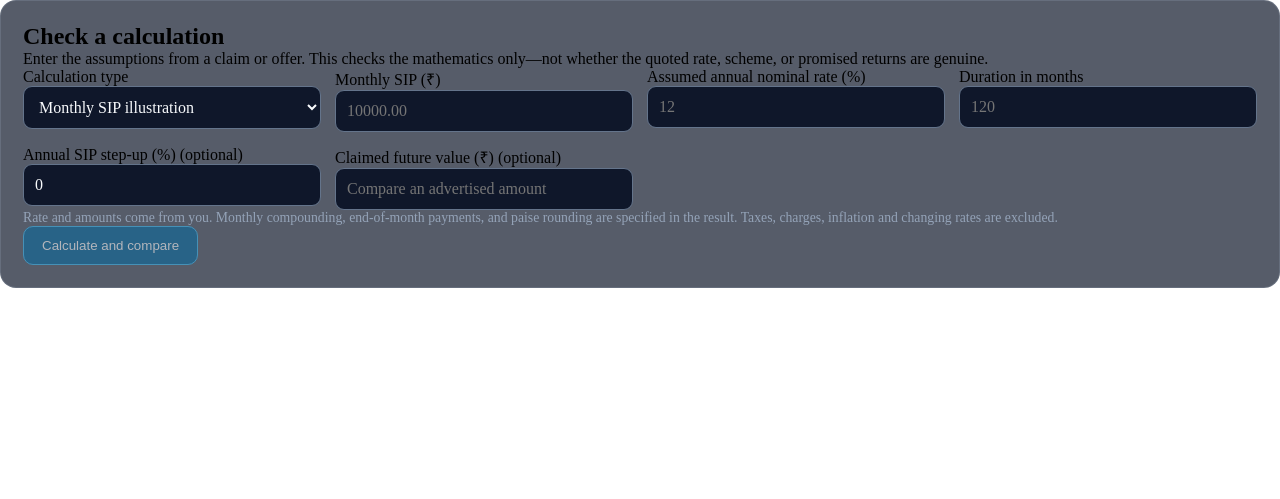
Test case: GenieProof math-only illustration › allows the optional SIP step-up to be cleared and sends zero
Step 1. Type "100" into the field labelled "Monthly SIP (₹)" → (484, 111), box [335,90,633,132]
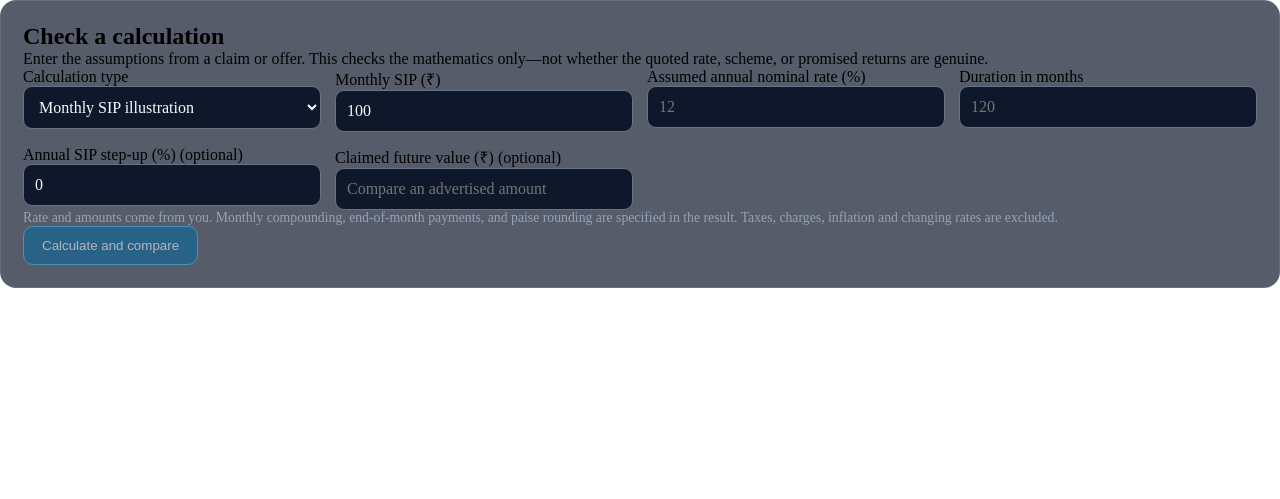
Step 2. Type "0" into the field labelled "Assumed annual nominal rate (%)" → (796, 107), box [647,86,945,128]
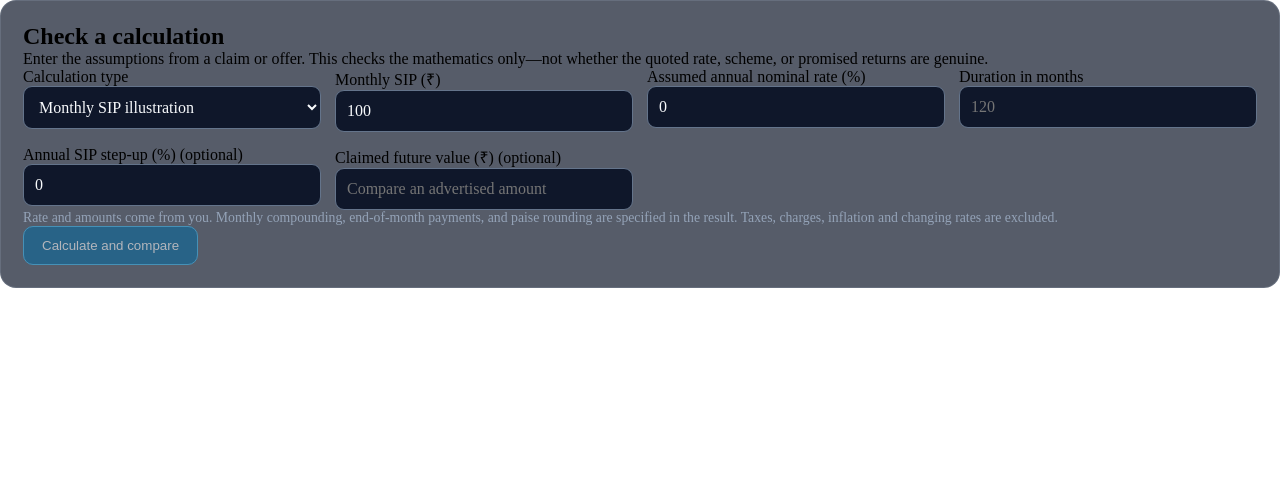
Step 3. Type "12" into the field labelled "Duration in months" → (1108, 107), box [959,86,1257,128]
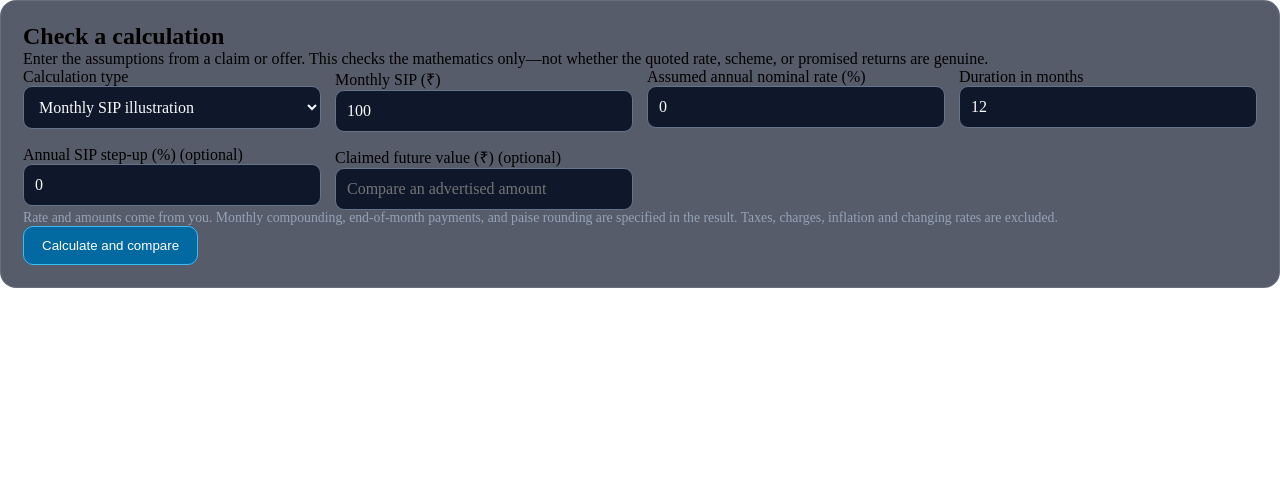
Step 4. Clear the field labelled "Annual SIP step-up (%) (optional)" → (172, 185), box [23,164,321,206]
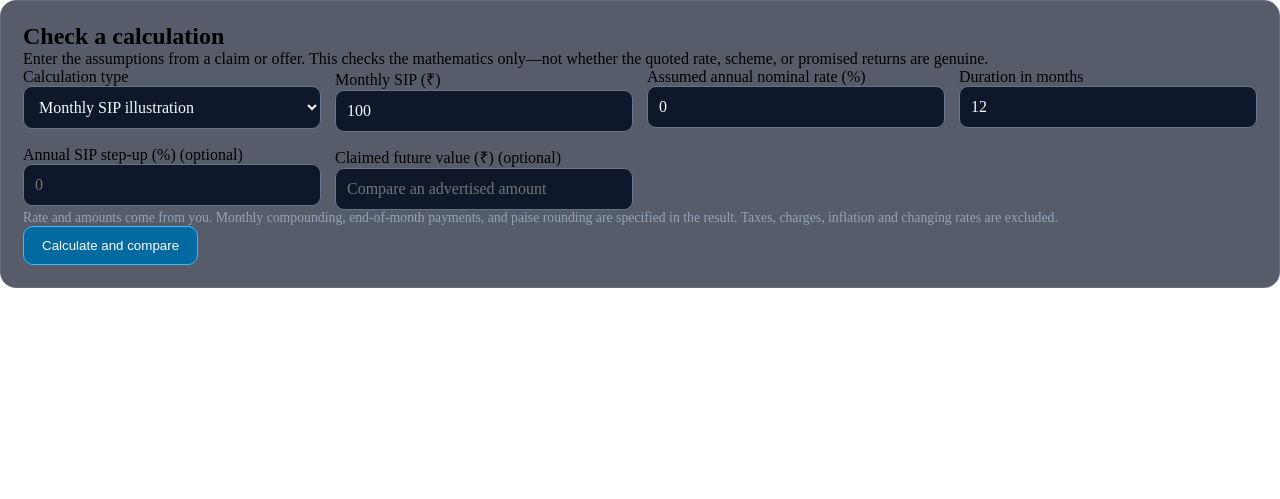
Check: the button "Calculate and compare" is enabled
Step 5. Click the button "Calculate and compare" → (111, 246), box [23,226,198,265]
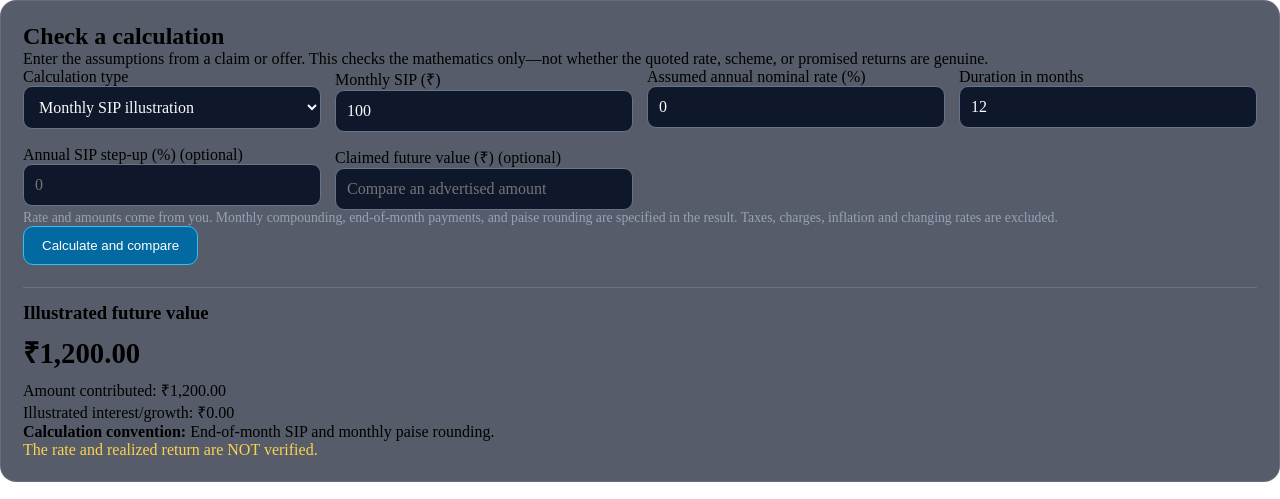
Check: the text "₹1,200.00" is shown, box [23,337,140,369]
